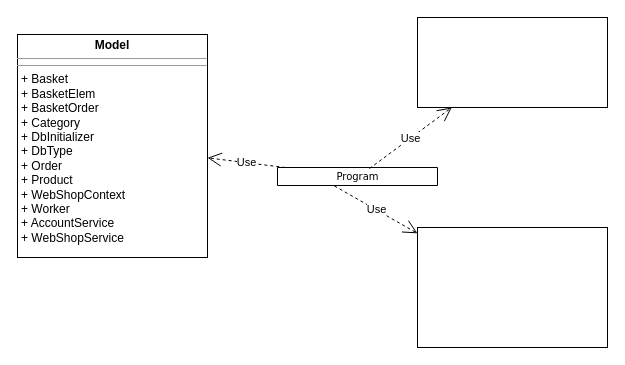
Some shapes in this 625 by 365 pixel diagram are drawn without their labels. Here are the shapes that lost their labels. From the top down, the centre of each, then its label:
At point 512,62: "Controllers + BaseController + CategoriesController + OrderController".
At point 512,287: "Views + BasketView + Details + Index + Buy + Result".
